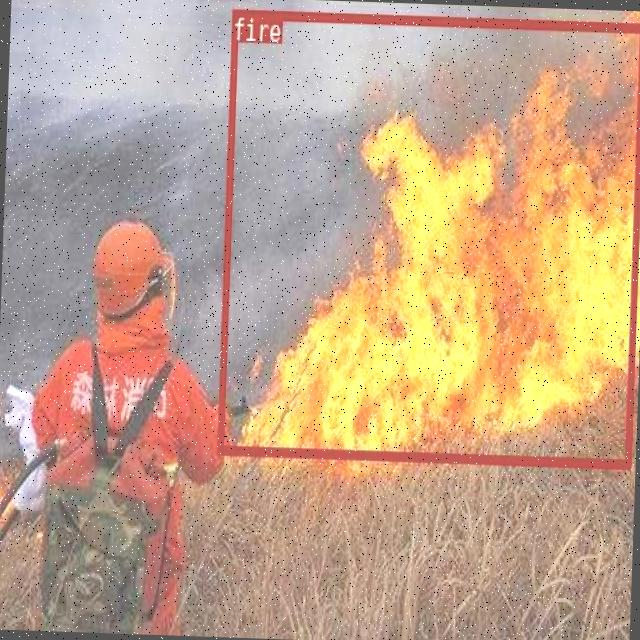fire: (215, 8, 640, 465)
